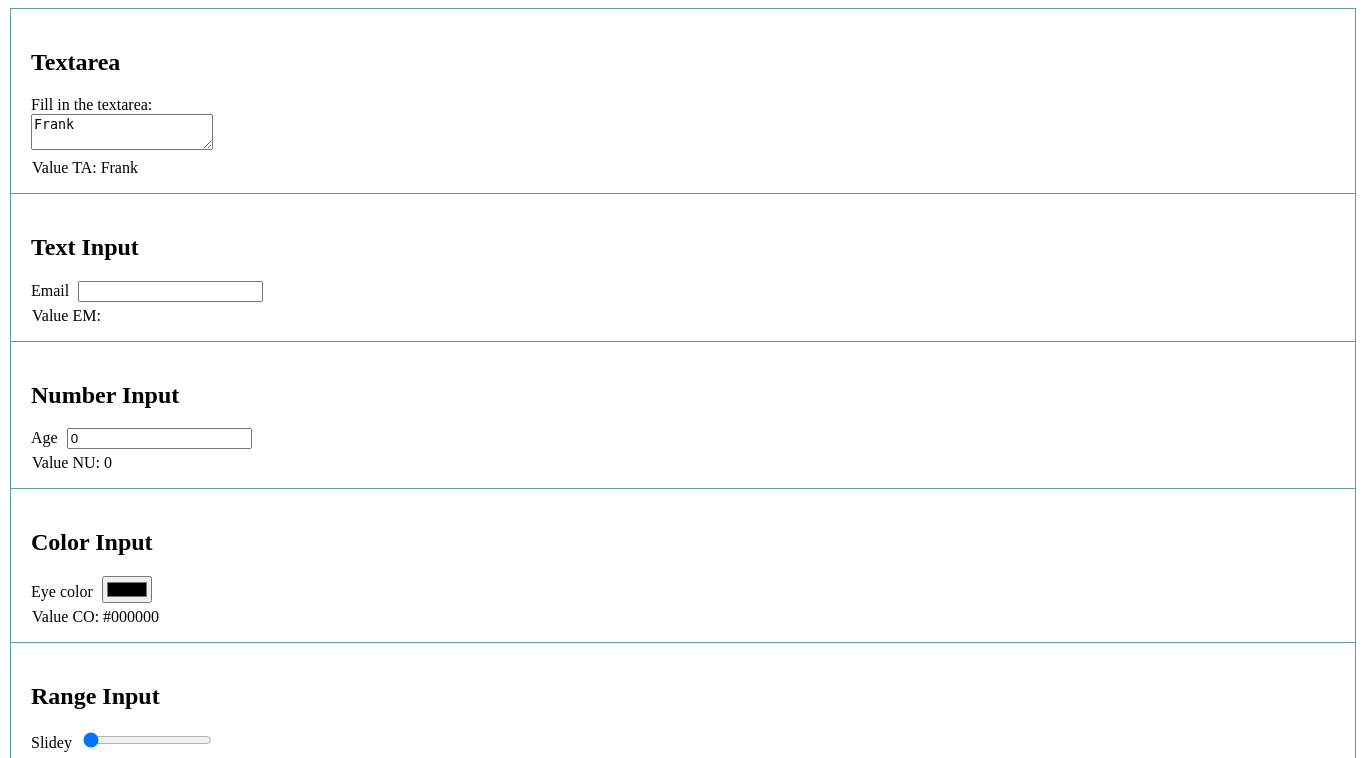
Test: updating text inputs should work
This screenshot has width=1366, height=758.
In the field labelled "Email": (171, 291) [78,281,263,302], type "my@email.com"
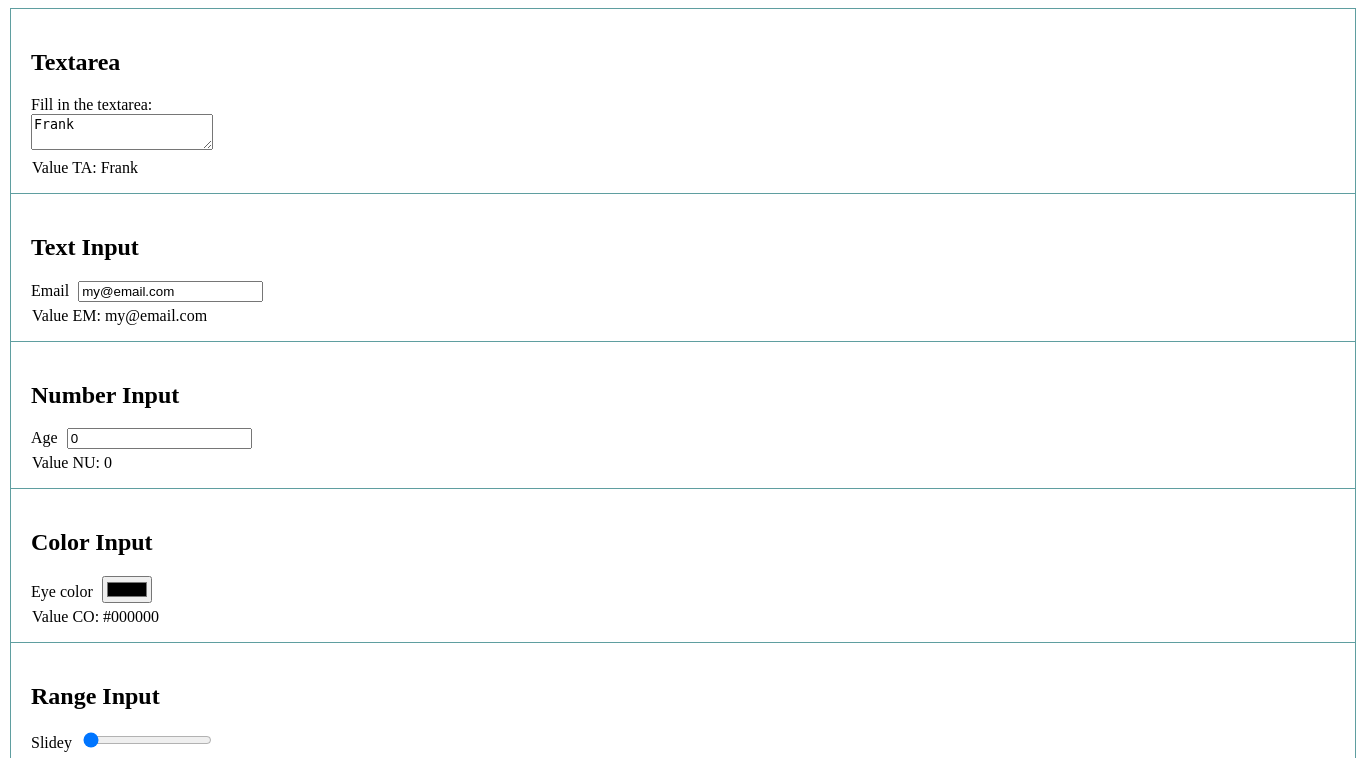
Result: the text "Value EM: my@email.com" is shown at [32,307,207,324]
